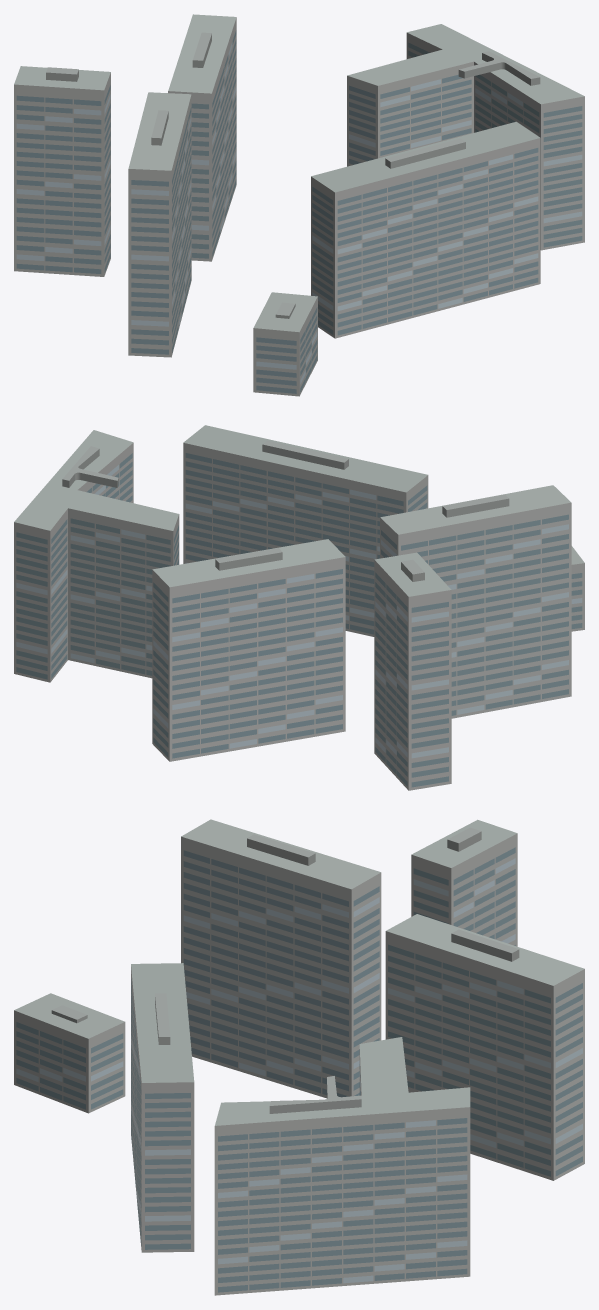
Rendered from apt-a13603401.glb.
3 renders of one model, top to bottom at view 1: azimuth 30°, elevation 25°; view 2: azimuth 150°, elevation 25°; view 3: azimuth 270°, elevation 25°, orthographic. The views are drawn at different scales.
Visible parts, largest first — view 1: apt-a13603401; view 2: apt-a13603401; view 3: apt-a13603401.
Boxes of the visible parts, box(x1,y1,x2,y2) form: apt-a13603401: box(14, 14, 584, 396); apt-a13603401: box(14, 425, 584, 790); apt-a13603401: box(14, 819, 584, 1295).
Bounding box in the file's own units: 157 × 63.4 × 146.
